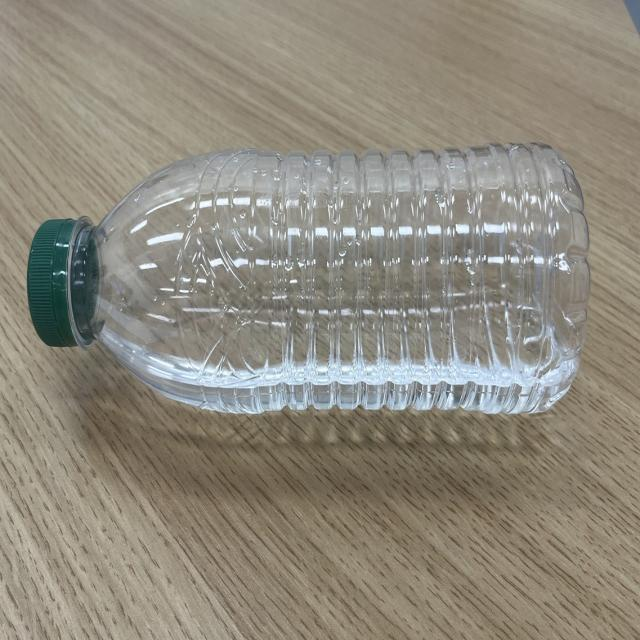medium: (28, 143, 589, 413)
